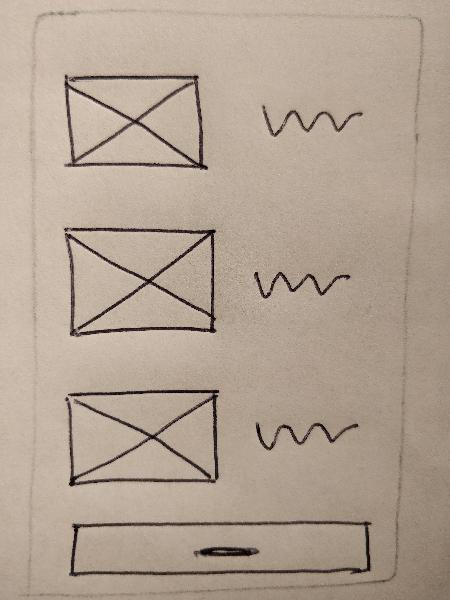button: (60, 513, 376, 584)
image: (56, 221, 226, 346), (54, 384, 229, 495), (56, 65, 211, 182)
text: (251, 92, 367, 152), (248, 256, 360, 311), (250, 409, 362, 461)
